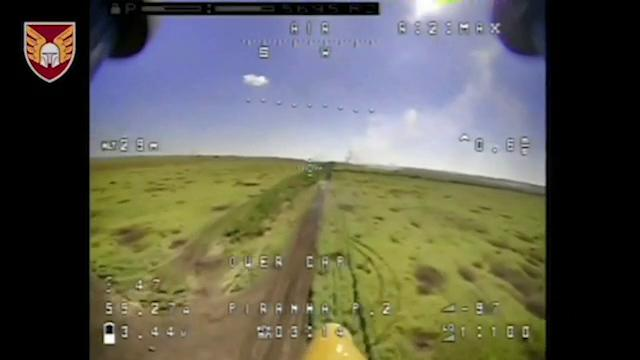tank: (313, 178, 328, 201)
